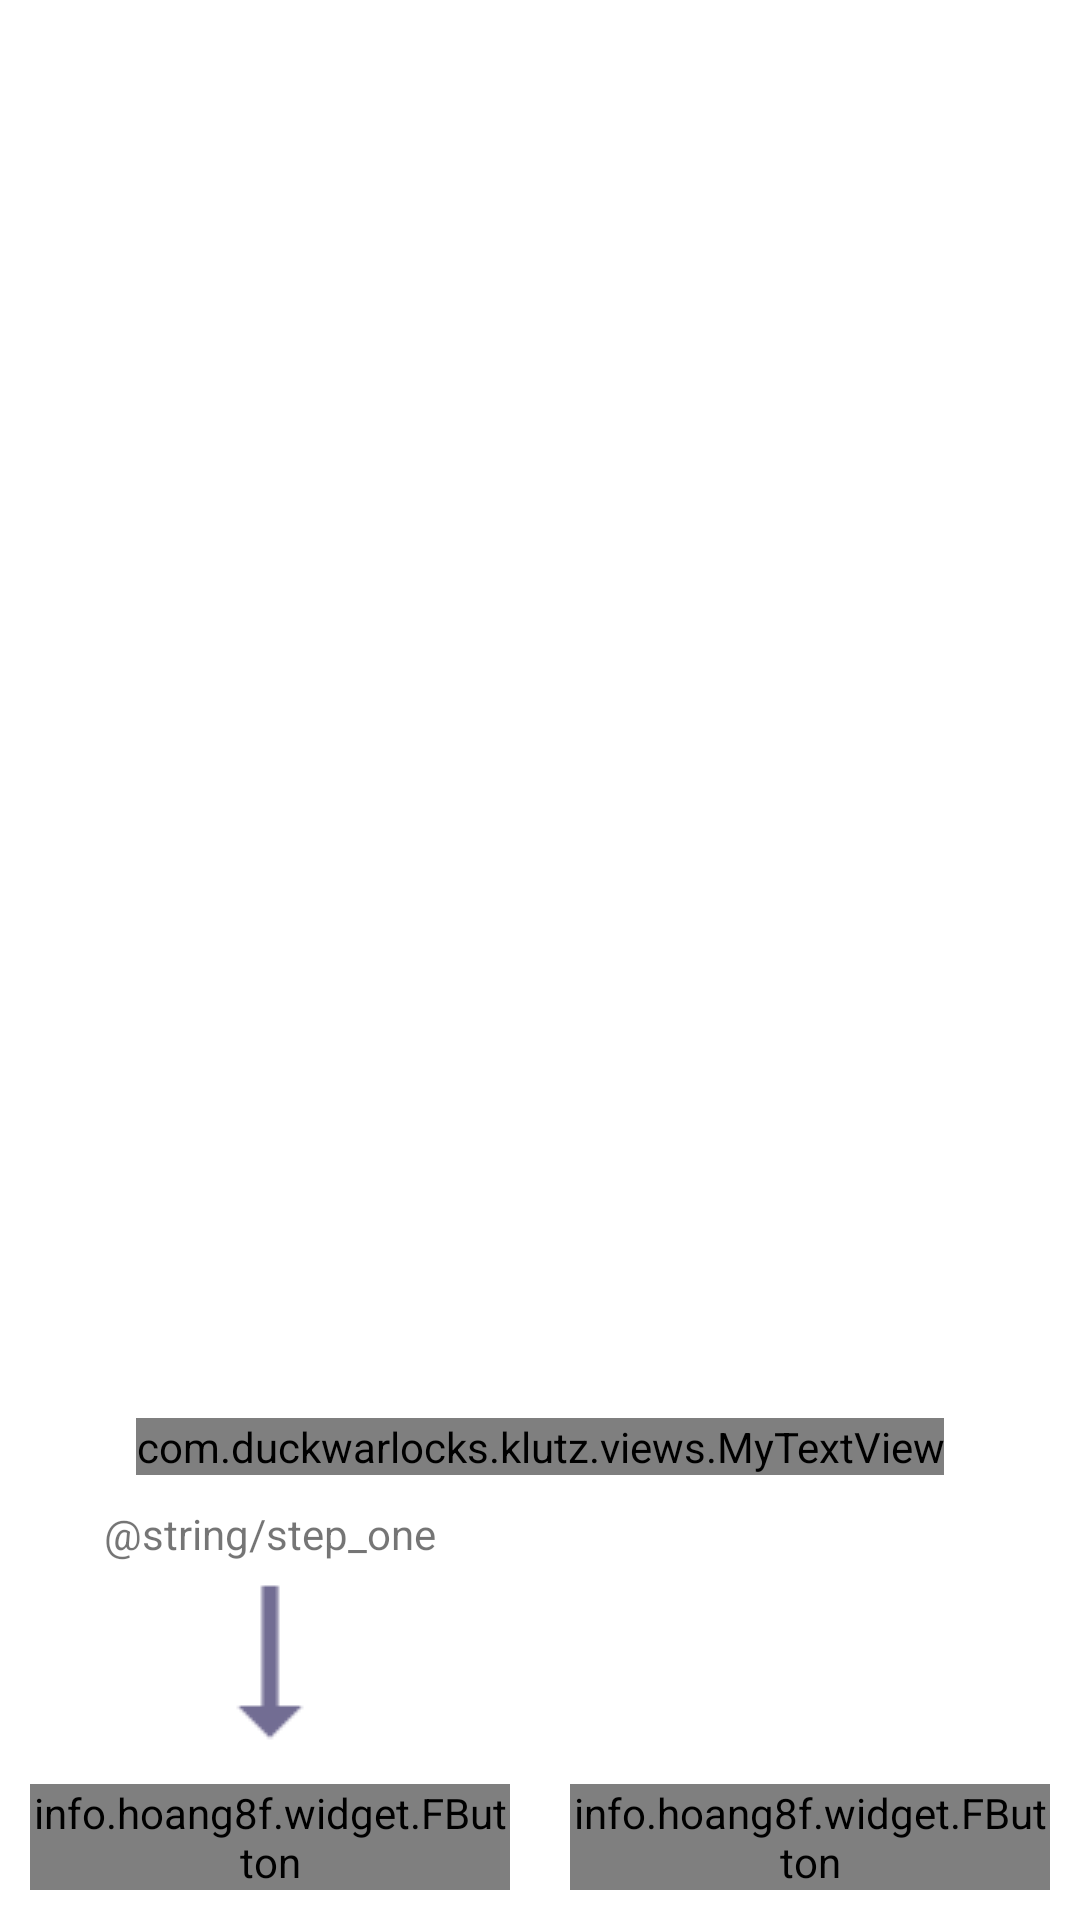

Icon click points for this 1080px×1920px phone screenshot, format point (x, y):
arrow: point (270, 1661)
